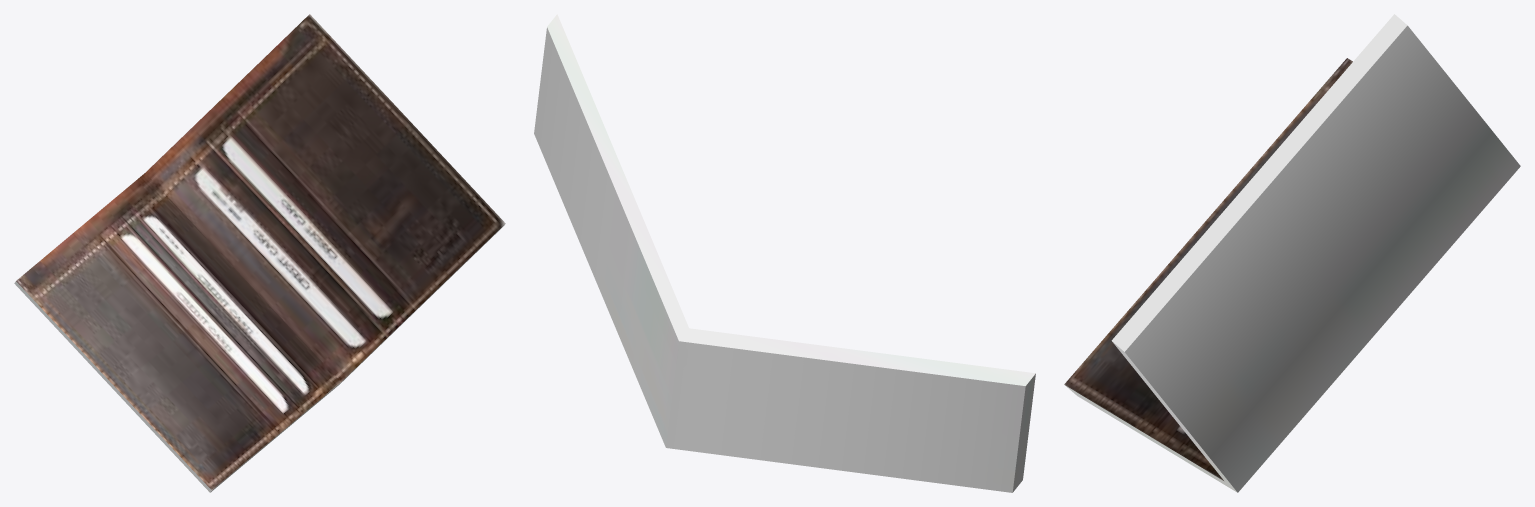
Rendered from wallet.fbx.
3 renders of one model, left to right at view 1: azimuth 30°, elevation 25°; view 2: azimuth 150°, elevation 25°; view 3: azimuth 270°, elevation 25°, orthographic. The views are drawn at different scales.
Visible parts, largest first — view 1: pCube116; view 2: pCube116; view 3: pCube116.
Part boxes in pixels (x1=…): pCube116: x1=14, y1=14, x2=505, y2=492; pCube116: x1=534, y1=14, x2=1035, y2=492; pCube116: x1=1064, y1=14, x2=1520, y2=492.
Size of the model in its own units: 0.4792 by 0.3892 by 0.3023.
Materials: 1 (1 with a texture image).
